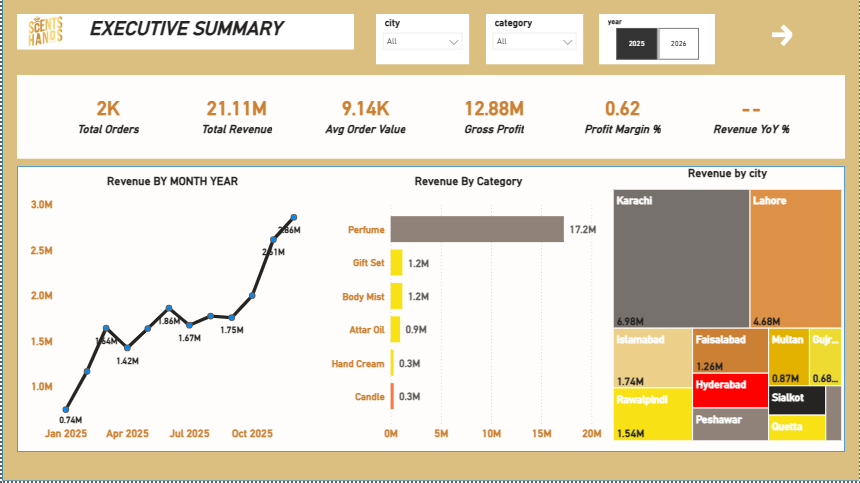

The page's visual inventory and layout, read from the dashboard file:
{"tool":"powerbi","page":{"name":"Executive Summary","canvas":[1280,720],"ordinal":1},"visuals":[{"type":"shape","box":[0,0,1280.6,719.4],"z":0},{"type":"textbox","box":[22.4,22.4,502.9,52.9],"z":1},{"type":"shape","box":[22.4,113.4,1235.8,125.4],"z":3},{"type":"cardVisual","fields":{"Data":["Measures (2).Total Orders","Measures (2).Total Revenue","Measures (2).Avg Order Value","Measures (2).Gross Profit","Measures (2).Profit Margin %","Measures (2).Revenue YoY %"]},"box":[49.3,117.9,1182.1,113.4],"z":4},{"type":"shape","box":[22.4,249.3,1235.8,426.9],"z":5},{"type":"lineChart","title":" Revenue BY MONTH YEAR","fields":{"Category":["dim_calendar.month_year"],"Y":["Measures (2).Total Revenue"]},"box":[37.3,261.2,434.3,403],"z":6},{"type":"barChart","title":" Revenue By Category","fields":{"Y":["Measures (2).Total Revenue"],"Category":["dim_products.category"]},"box":[485.1,261.2,422.4,403],"z":7},{"type":"treemap","title":" Revenue by city","fields":{"Group":["dim_customers.city"],"Values":["Measures (2).Total Revenue"]},"box":[907.5,249.3,350.7,414.9],"z":8},{"type":"image","box":[22.4,22.4,85.1,52.2],"z":9},{"type":"slicer","fields":{"Values":["dim_customers.city"]},"box":[558.2,22.4,138.8,74.6],"z":10},{"type":"slicer","fields":{"Values":["dim_products.category"]},"box":[722.4,22.4,144.8,74.6],"z":11},{"type":"slicer","fields":{"Values":["dim_calendar.year"]},"box":[891,22.4,173.1,74.6],"z":12},{"type":"actionButton","box":[1113.4,34.3,100,40],"z":13}]}

Visuals, with their boxes in screenshot pixels (x1, y1, x2, y2), scaled from the page's 1280x720 canvas onto the 860x483 screenshot:
shape: Rect(0, 0, 859, 482)
textbox: Rect(15, 15, 353, 51)
shape: Rect(15, 76, 845, 160)
cardVisual - Measures (2).Total Orders x Measures (2).Total Revenue: Rect(33, 79, 827, 155)
shape: Rect(15, 167, 845, 454)
" Revenue BY MONTH YEAR" lineChart: Rect(25, 175, 317, 446)
" Revenue By Category" barChart: Rect(326, 175, 610, 446)
" Revenue by city" treemap: Rect(610, 167, 845, 446)
image: Rect(15, 15, 72, 50)
slicer - dim_customers.city: Rect(375, 15, 468, 65)
slicer - dim_products.category: Rect(485, 15, 583, 65)
slicer - dim_calendar.year: Rect(599, 15, 715, 65)
actionButton: Rect(748, 23, 815, 50)
